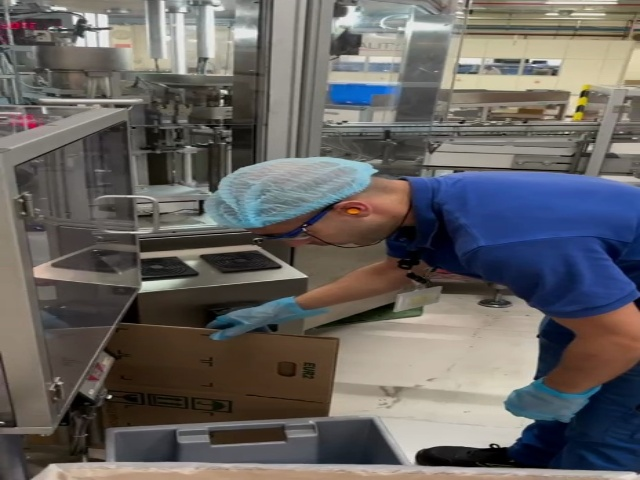Earplug: (341, 199, 369, 221)
Hairnet: (217, 158, 363, 227)
No_Helmet: (218, 156, 353, 225)
No_Vest: (410, 169, 640, 319)
Person: (211, 158, 640, 465)
Safety_Goggles: (258, 201, 331, 247)
